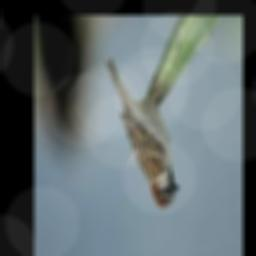Sparrow: (105, 59, 179, 210)
